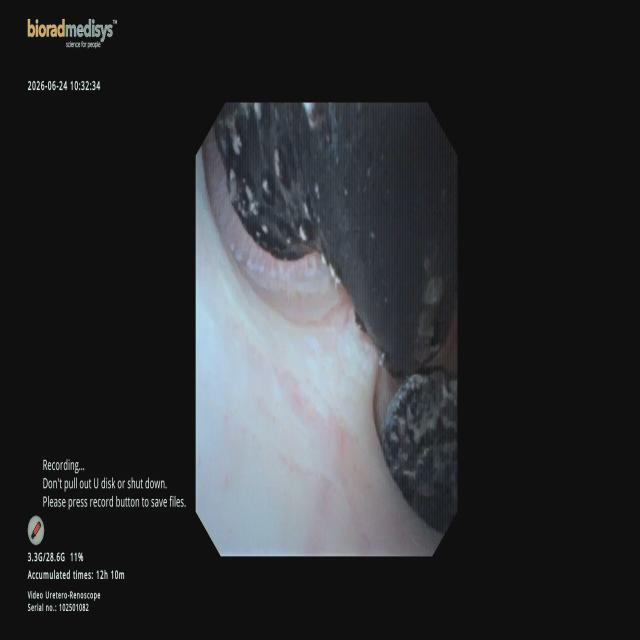stone-new: (216, 103, 457, 380), (381, 369, 457, 526)
